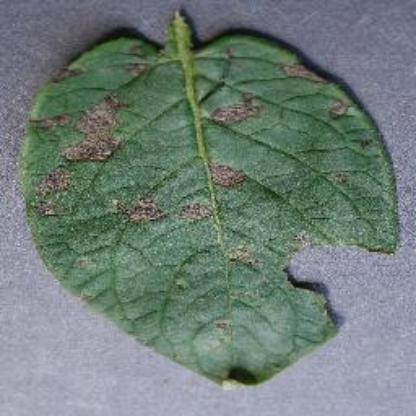Early-Blight: (18, 5, 404, 389)
